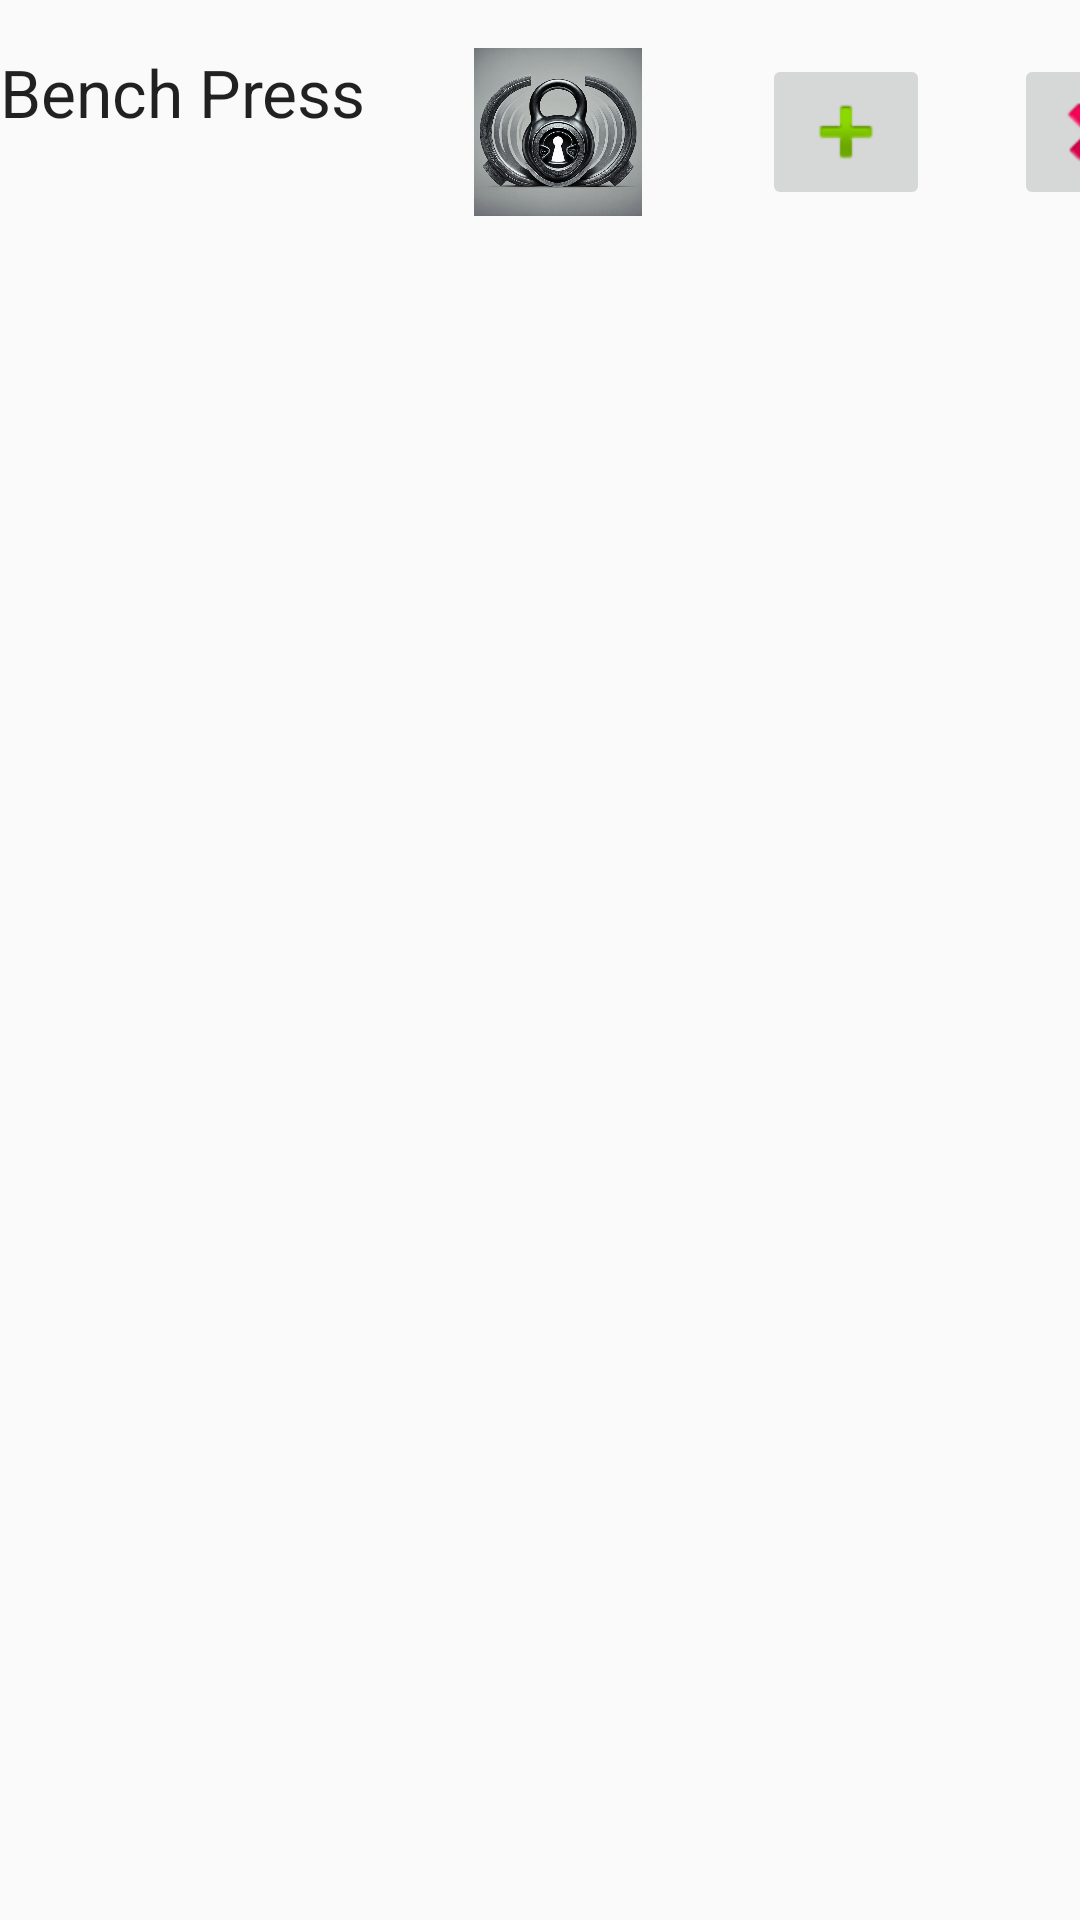

Screen size 1080px x 1920px. Icon name, then its box in pixels as (left=x1, top=y1, right=x2, bottom=y2):
add: (left=774, top=72, right=918, bottom=192)
